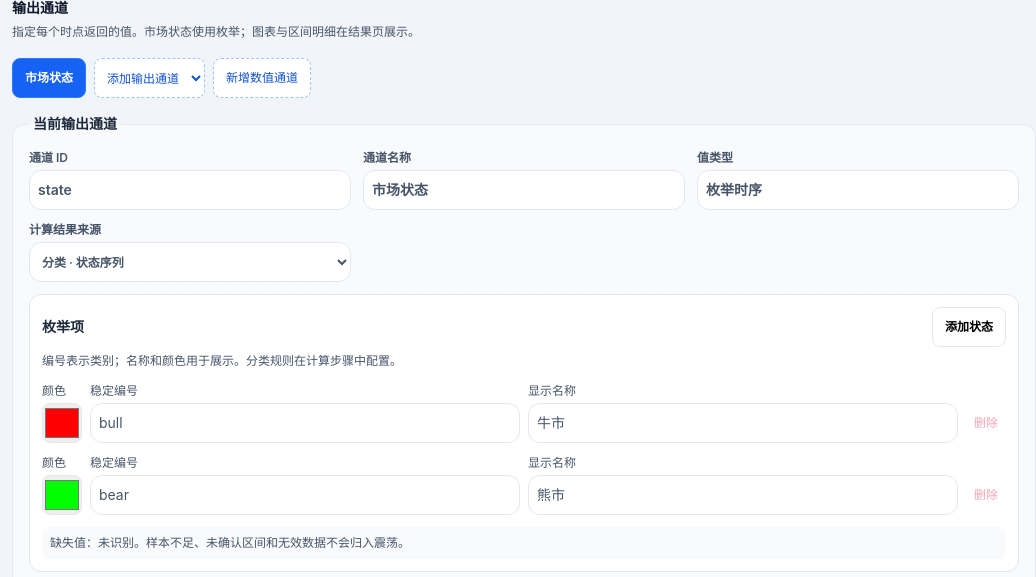
Test case: 时序输出构建 › 枚举不显示收益单位，颜色与名称不改变计算身份
Expected: the field named "输出值类型" holds "枚举时序", [697,170,1019,210]
Type "#112233" into the colour field named "状态1颜色". click: (62, 423)
box: [42,403,82,443]
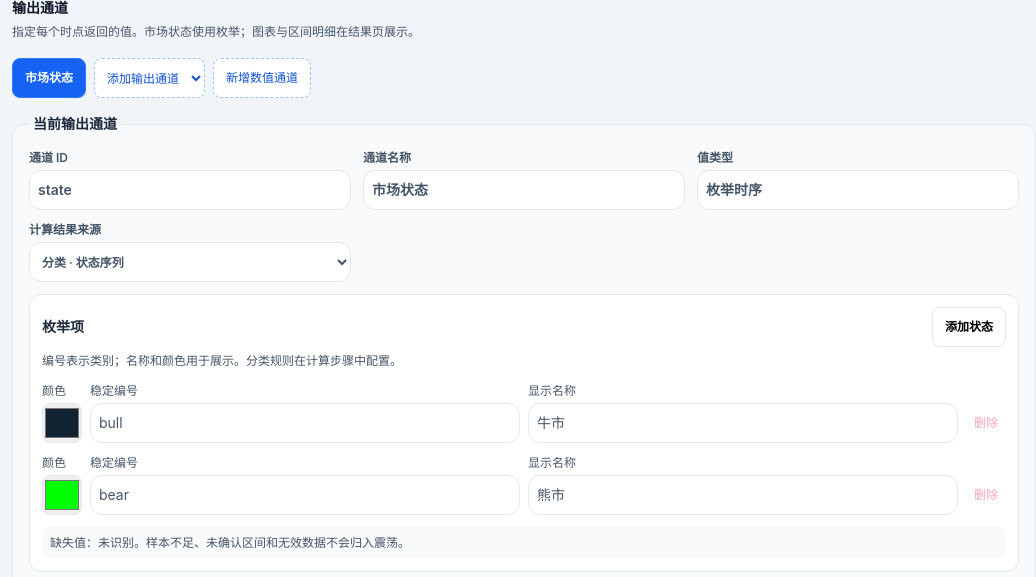
Replace the text in the field named "输出通道 1 名称" with "市场阶段". click: (524, 190)
box: [363,170,685,210]
(page scrolled)
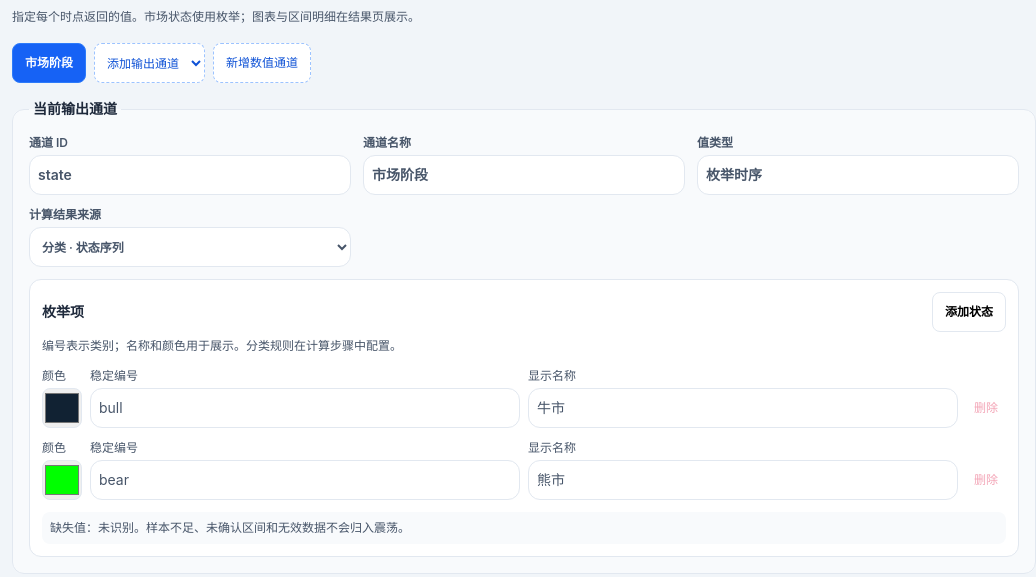
Now the tab "市场阶段" is shown, box [12,43,86,83]
